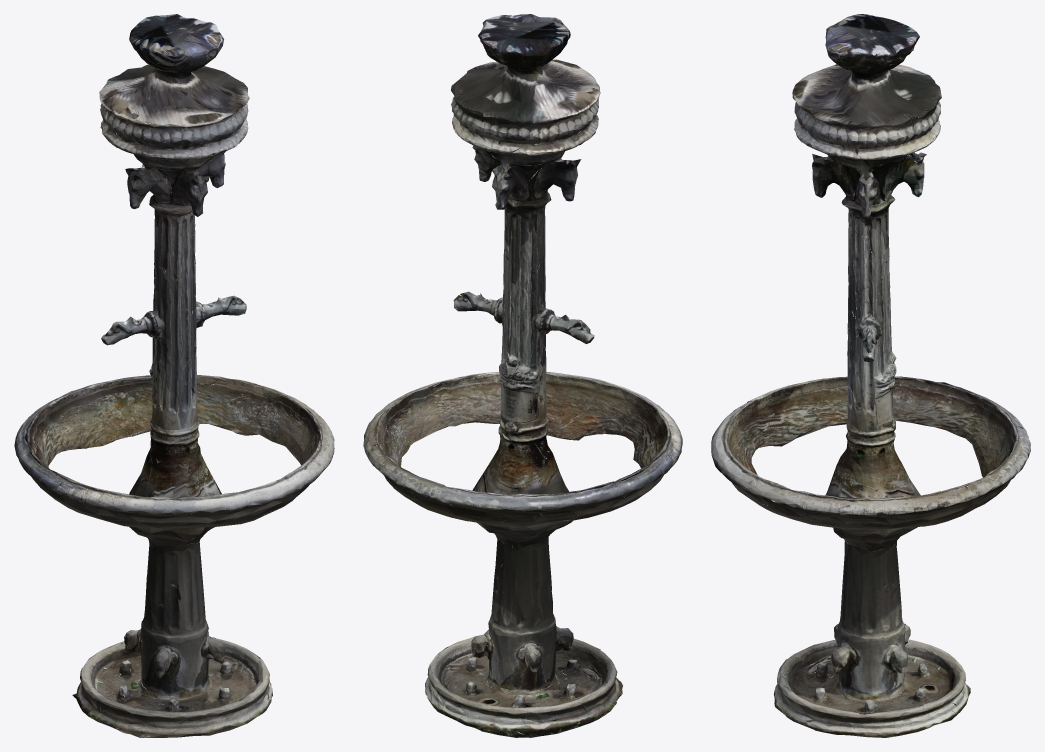
The model's file is pitko4.glb.
The picture shows the model from 3 angles, left to right: view 1: azimuth 30°, elevation 25°; view 2: azimuth 150°, elevation 25°; view 3: azimuth 270°, elevation 25°; orthographic projection.
Visible parts, largest first — view 1: submeshModifPITKO; view 2: submeshModifPITKO; view 3: submeshModifPITKO.
Part boxes in pixels (x1,y1,x2,y2): submeshModifPITKO: (14, 14, 334, 737); submeshModifPITKO: (363, 14, 682, 737); submeshModifPITKO: (711, 14, 1030, 737).
Size of the model in its own units: 1.33 by 3.11 by 1.33.
Materials: 1 (1 with a texture image).
